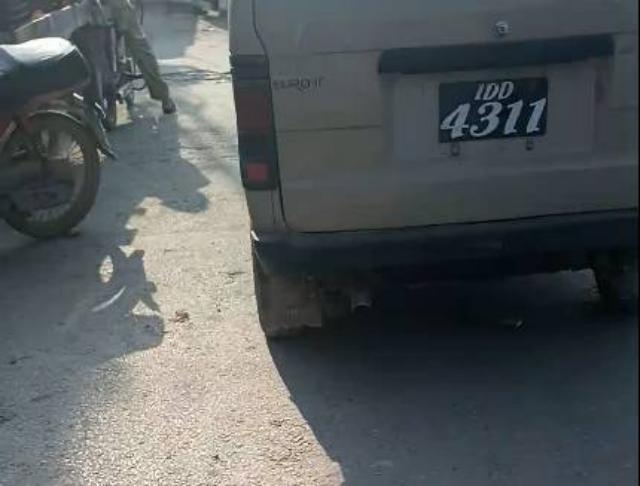plate: (432, 68, 556, 136)
